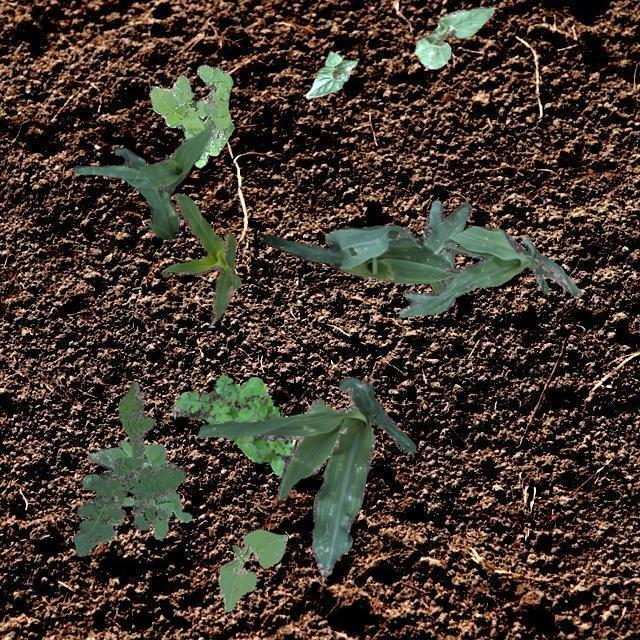crop: (196, 376, 414, 574), (258, 200, 474, 290), (72, 120, 214, 238), (398, 225, 580, 316), (160, 192, 240, 324), (218, 528, 286, 610), (414, 5, 492, 68), (304, 51, 356, 98)
weed: (72, 380, 185, 556), (170, 374, 292, 474), (86, 439, 192, 538), (150, 64, 233, 166)
